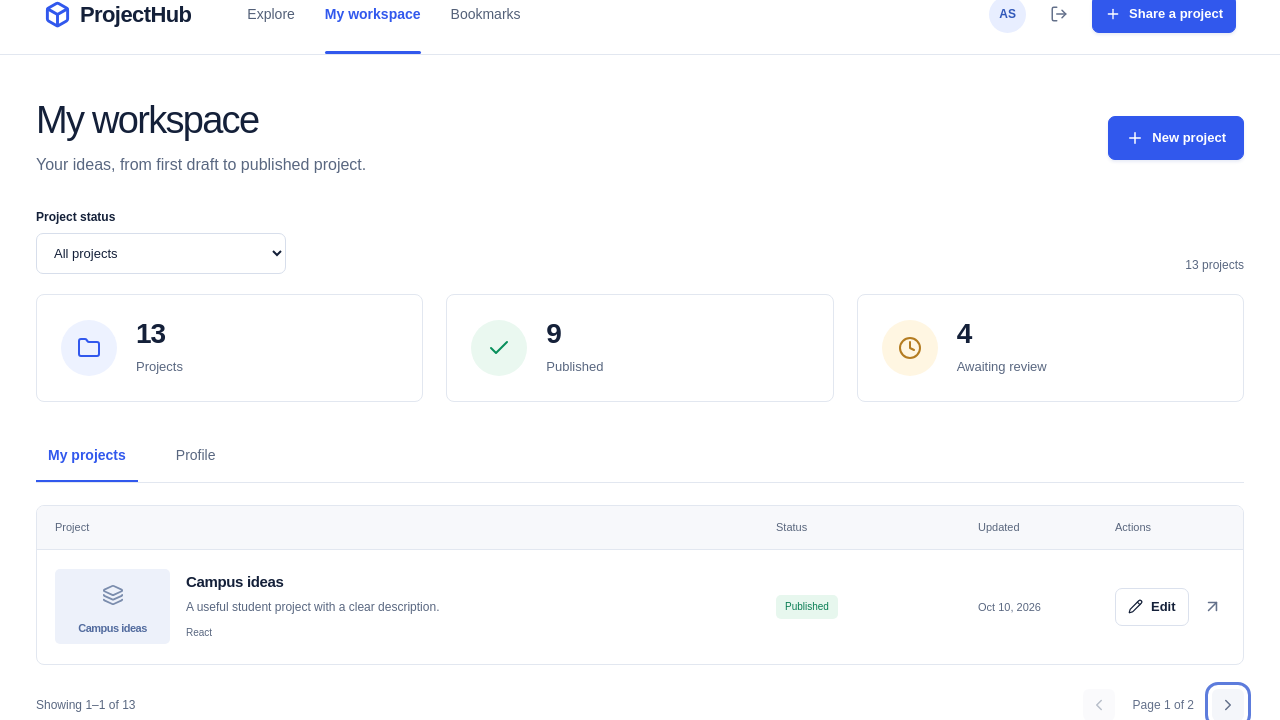
Test: failed page navigation retains pager focus and permits returning to the previous page
(page scrolled)
Click the button named "Next workspace page": click(1228, 705) [1212,689,1244,719]
(page scrolled)
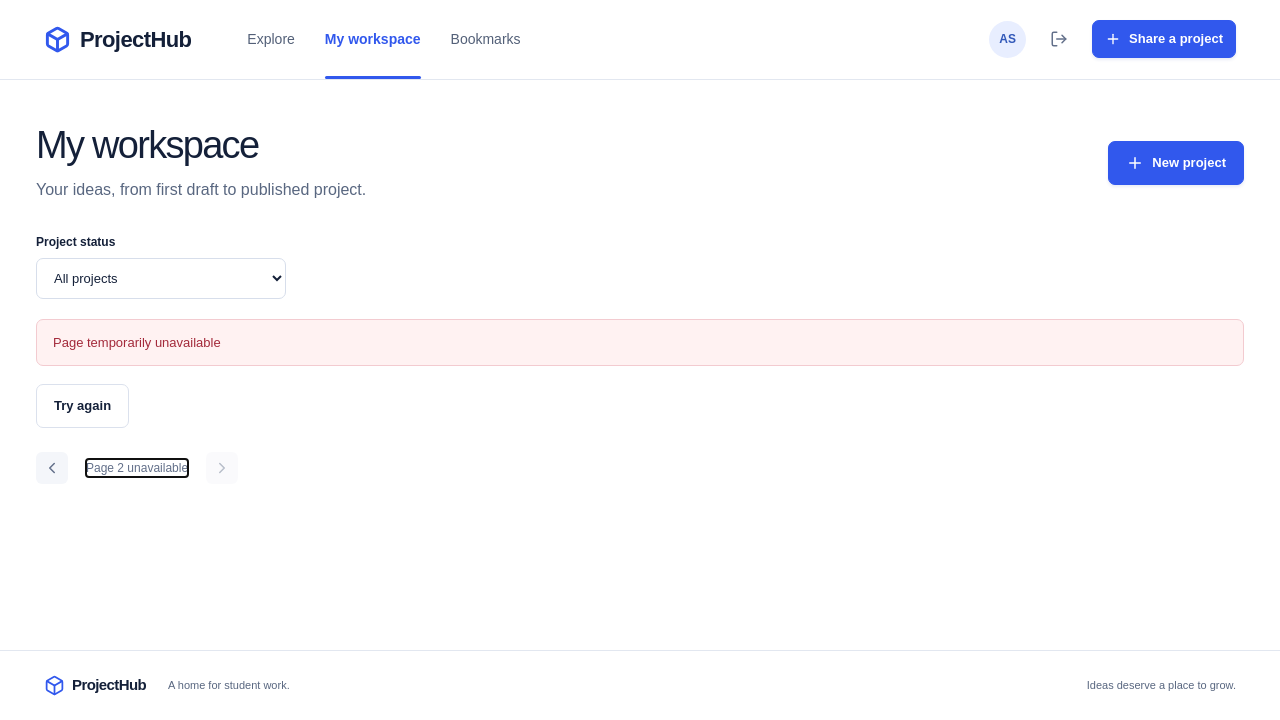
Expected: the message "Page temporarily unavailable" is shown, [36,319,1244,366]
Click the button named "Previous workspace page": click(52, 468) [36,452,68,484]
(page scrolled)
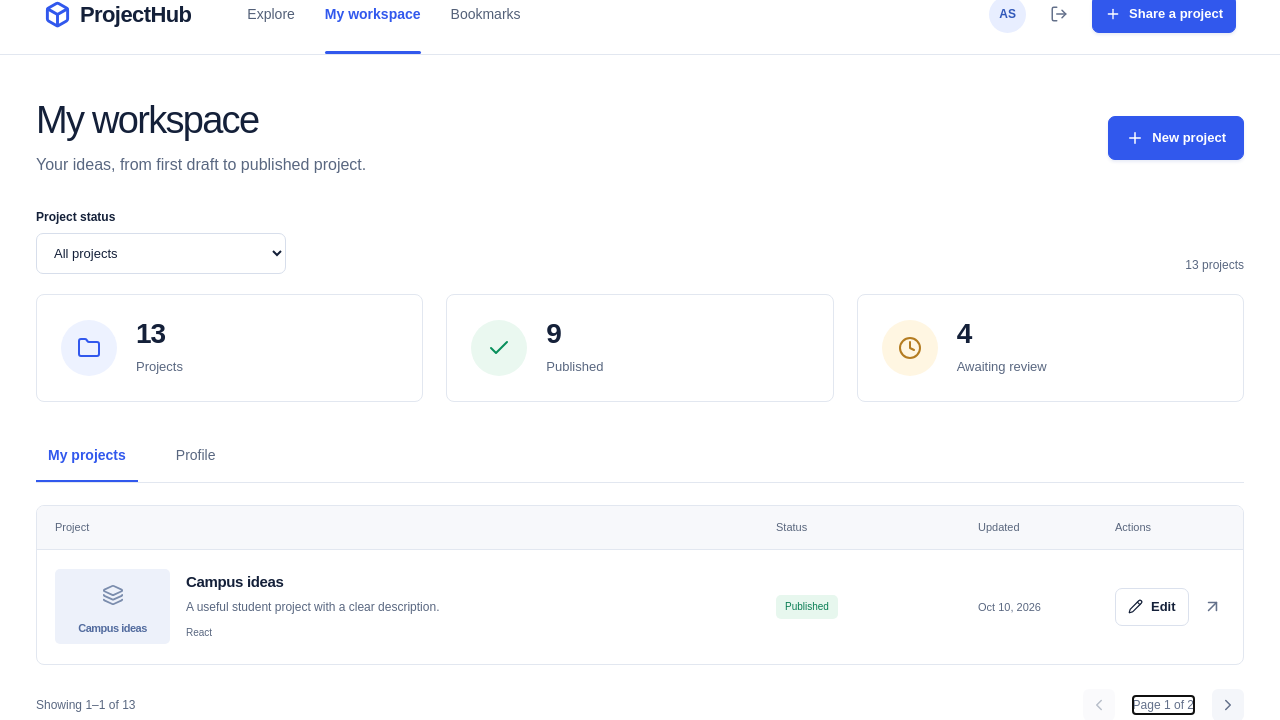
Expected: the text "Page 1 of 2" is shown, [1133,696,1194,714]
